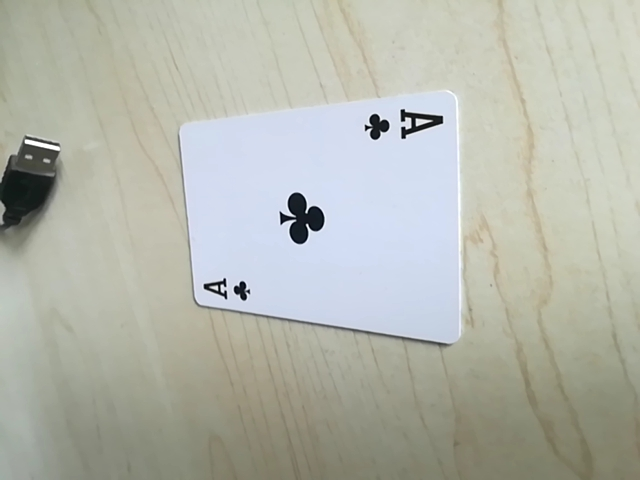mh a: (361, 103, 446, 148), (196, 267, 258, 308)
